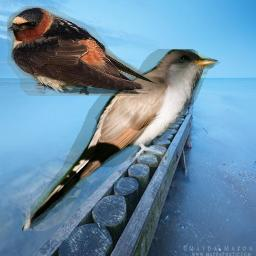Cuckoo: (22, 49, 220, 231)
Swallow: (7, 6, 159, 96)
